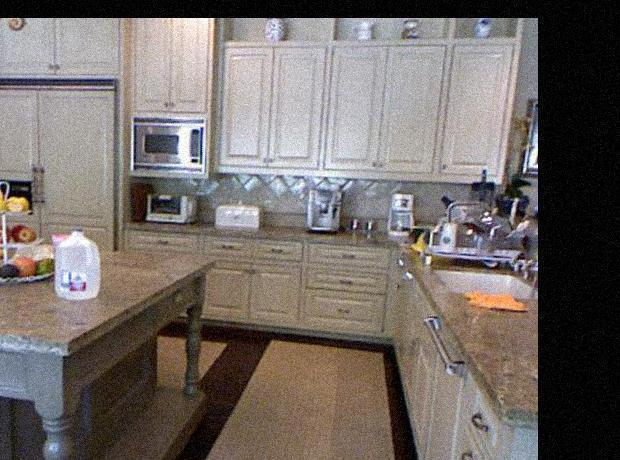Lavaplatos: (424, 220, 534, 316)
